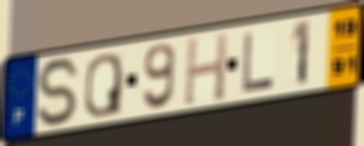1: (290, 17, 312, 90)
9: (142, 42, 177, 112)
H: (181, 30, 230, 108)
L: (240, 31, 277, 95)
Q: (83, 51, 124, 120)
S: (35, 56, 83, 129)
